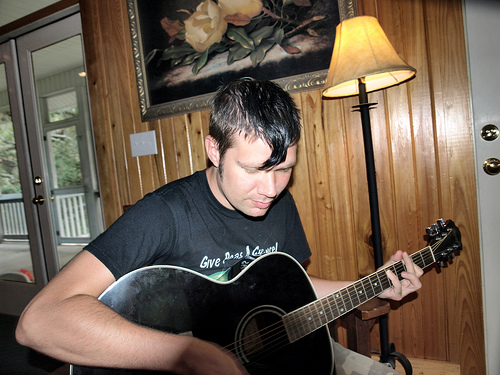guitar: (65, 217, 462, 375)
